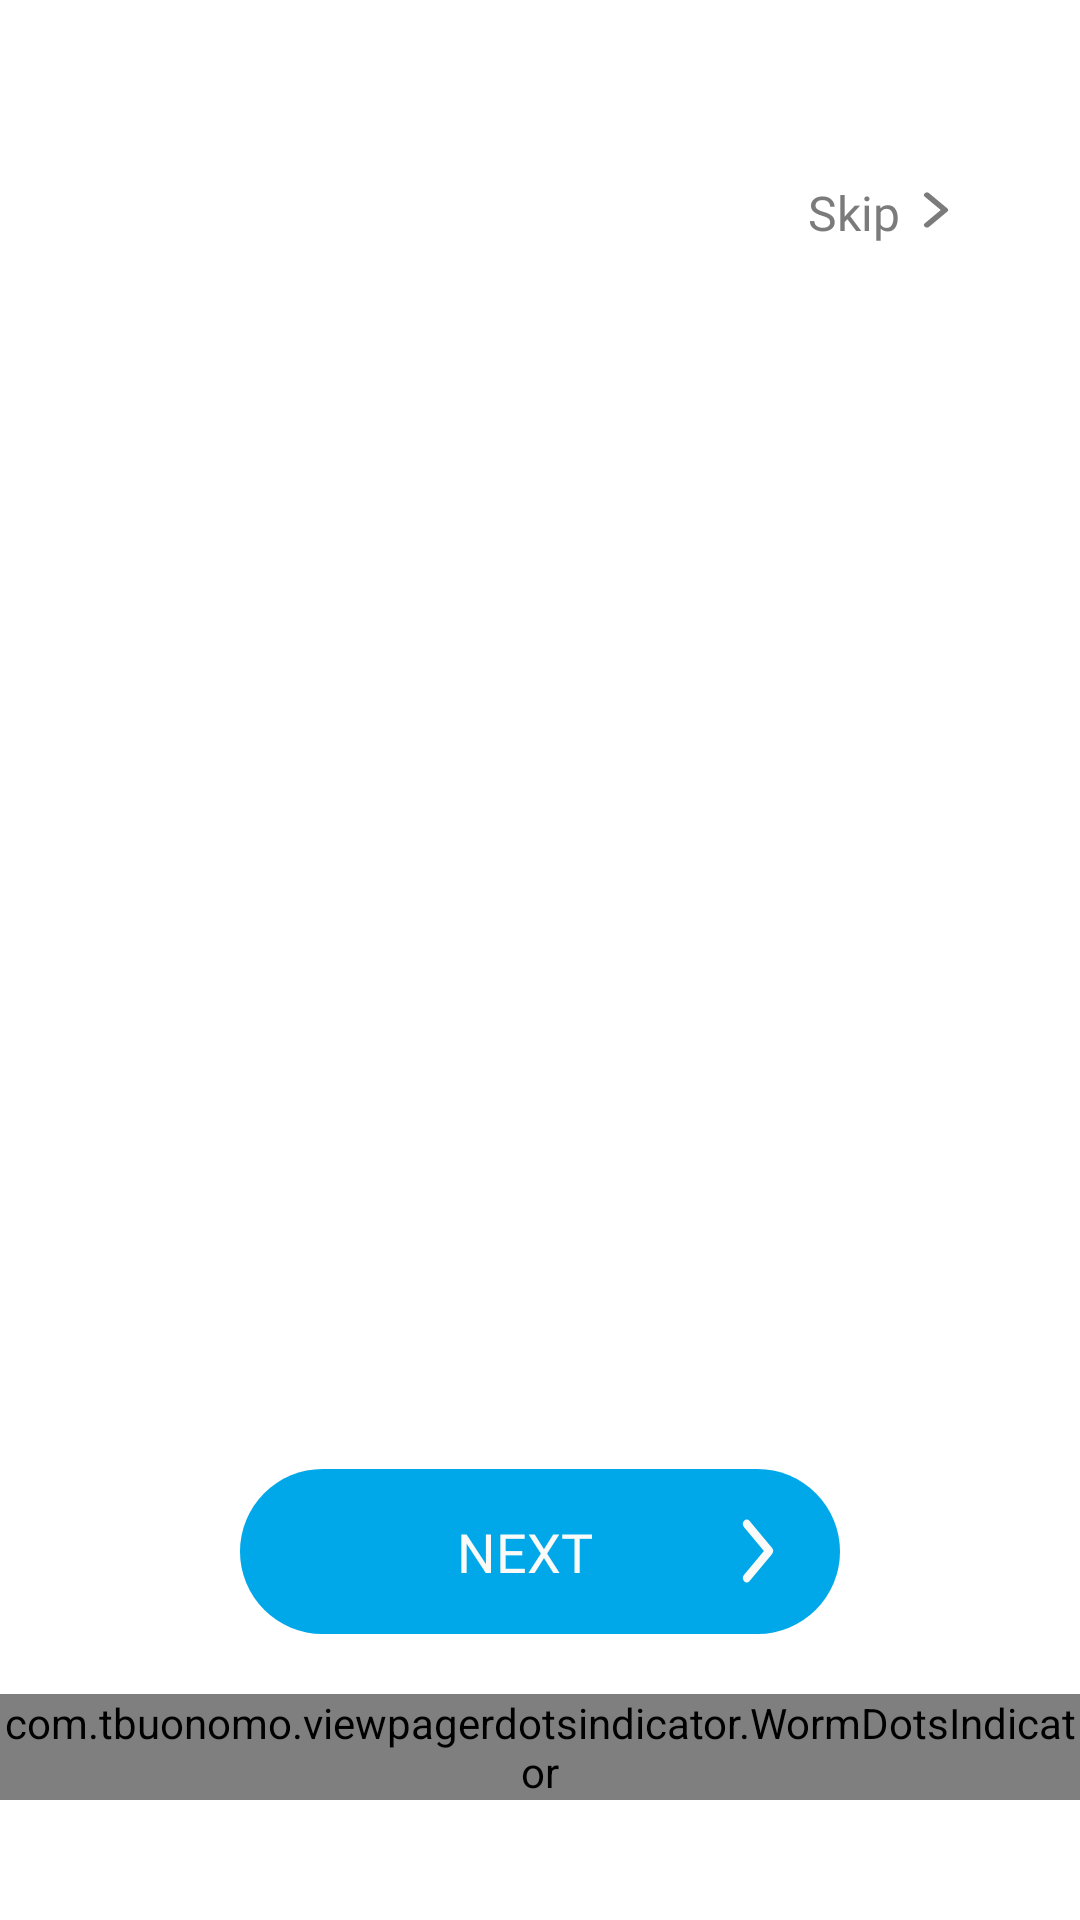

Named icons in this screenshot (1080px x 1920px) and their centers, (x,y):
chevron right: (936,210), (758,1551)
